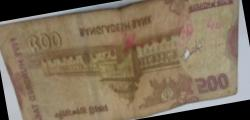500 taka: (14, 2, 239, 118)
